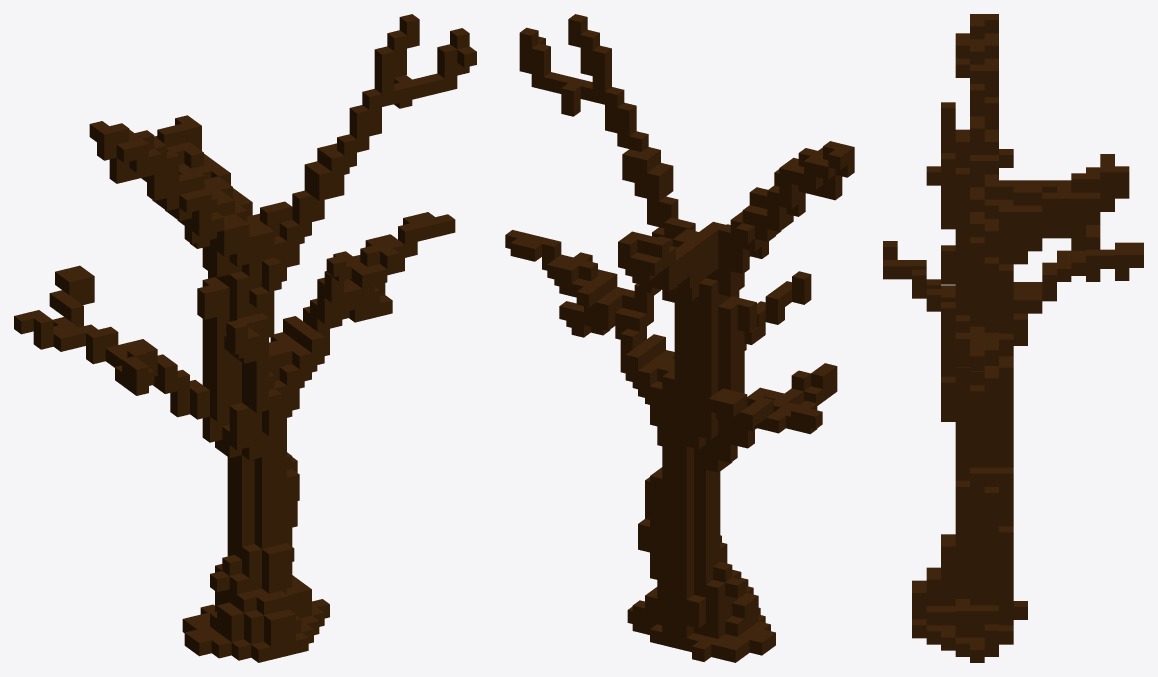
The model's file is Tree.obj.
The picture shows the model from 3 angles, left to right: view 1: azimuth 30°, elevation 25°; view 2: azimuth 150°, elevation 25°; view 3: azimuth 270°, elevation 25°; orthographic projection. The views are drawn at different scales.
Bounding box in the file's own units: 30 × 45 × 18.
Materials: 1 (1 with a texture image).
